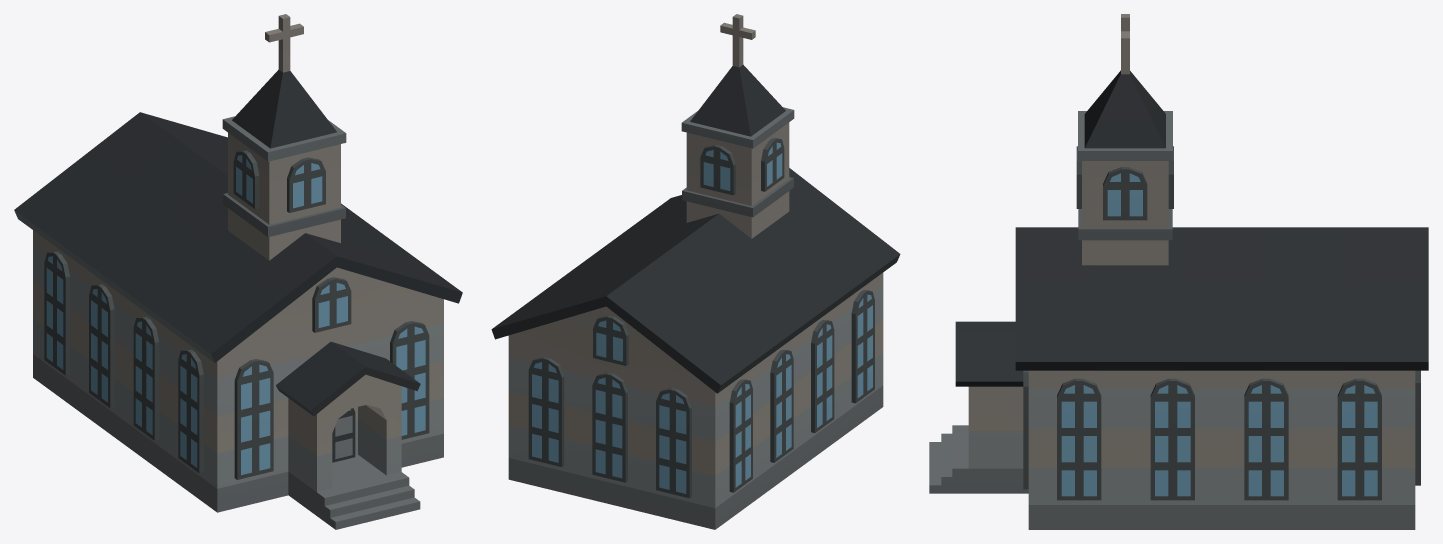
File: catholic temple.fbx
3 renders of one model, left to right at view 1: azimuth 30°, elevation 25°; view 2: azimuth 150°, elevation 25°; view 3: azimuth 270°, elevation 25°, orthographic. The views are drawn at different scales.
Parts seen in each view (by area): view 1: catholic temple; view 2: catholic temple; view 3: catholic temple.
Boxes of the visible parts, <box> form: catholic temple: <box>14,14,462,529</box>; catholic temple: <box>491,14,900,529</box>; catholic temple: <box>929,14,1428,529</box>.
Bounding box in the file's own units: 998 × 1647 × 1633.
Materials: 1 (1 with a texture image).
